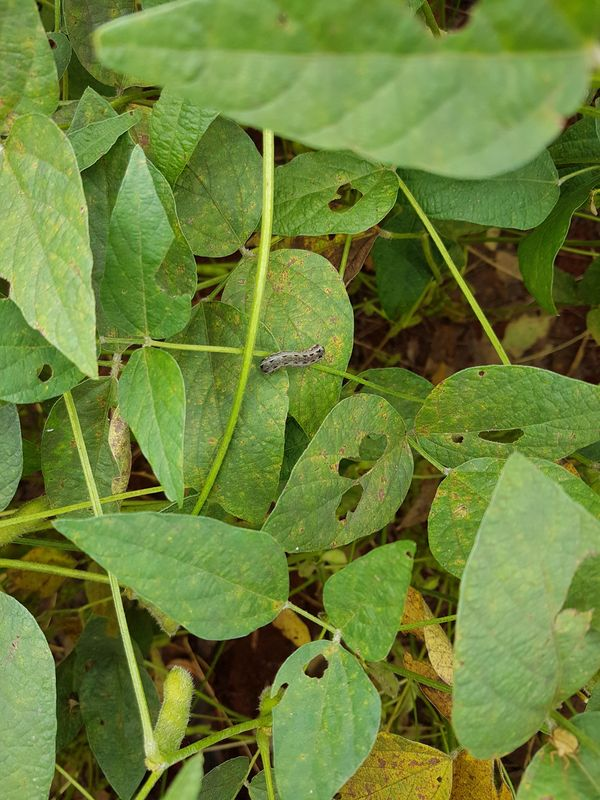Euschistus_heros_ninfa: (535, 712, 595, 776)
Spodoptera_albula: (244, 326, 332, 400)
